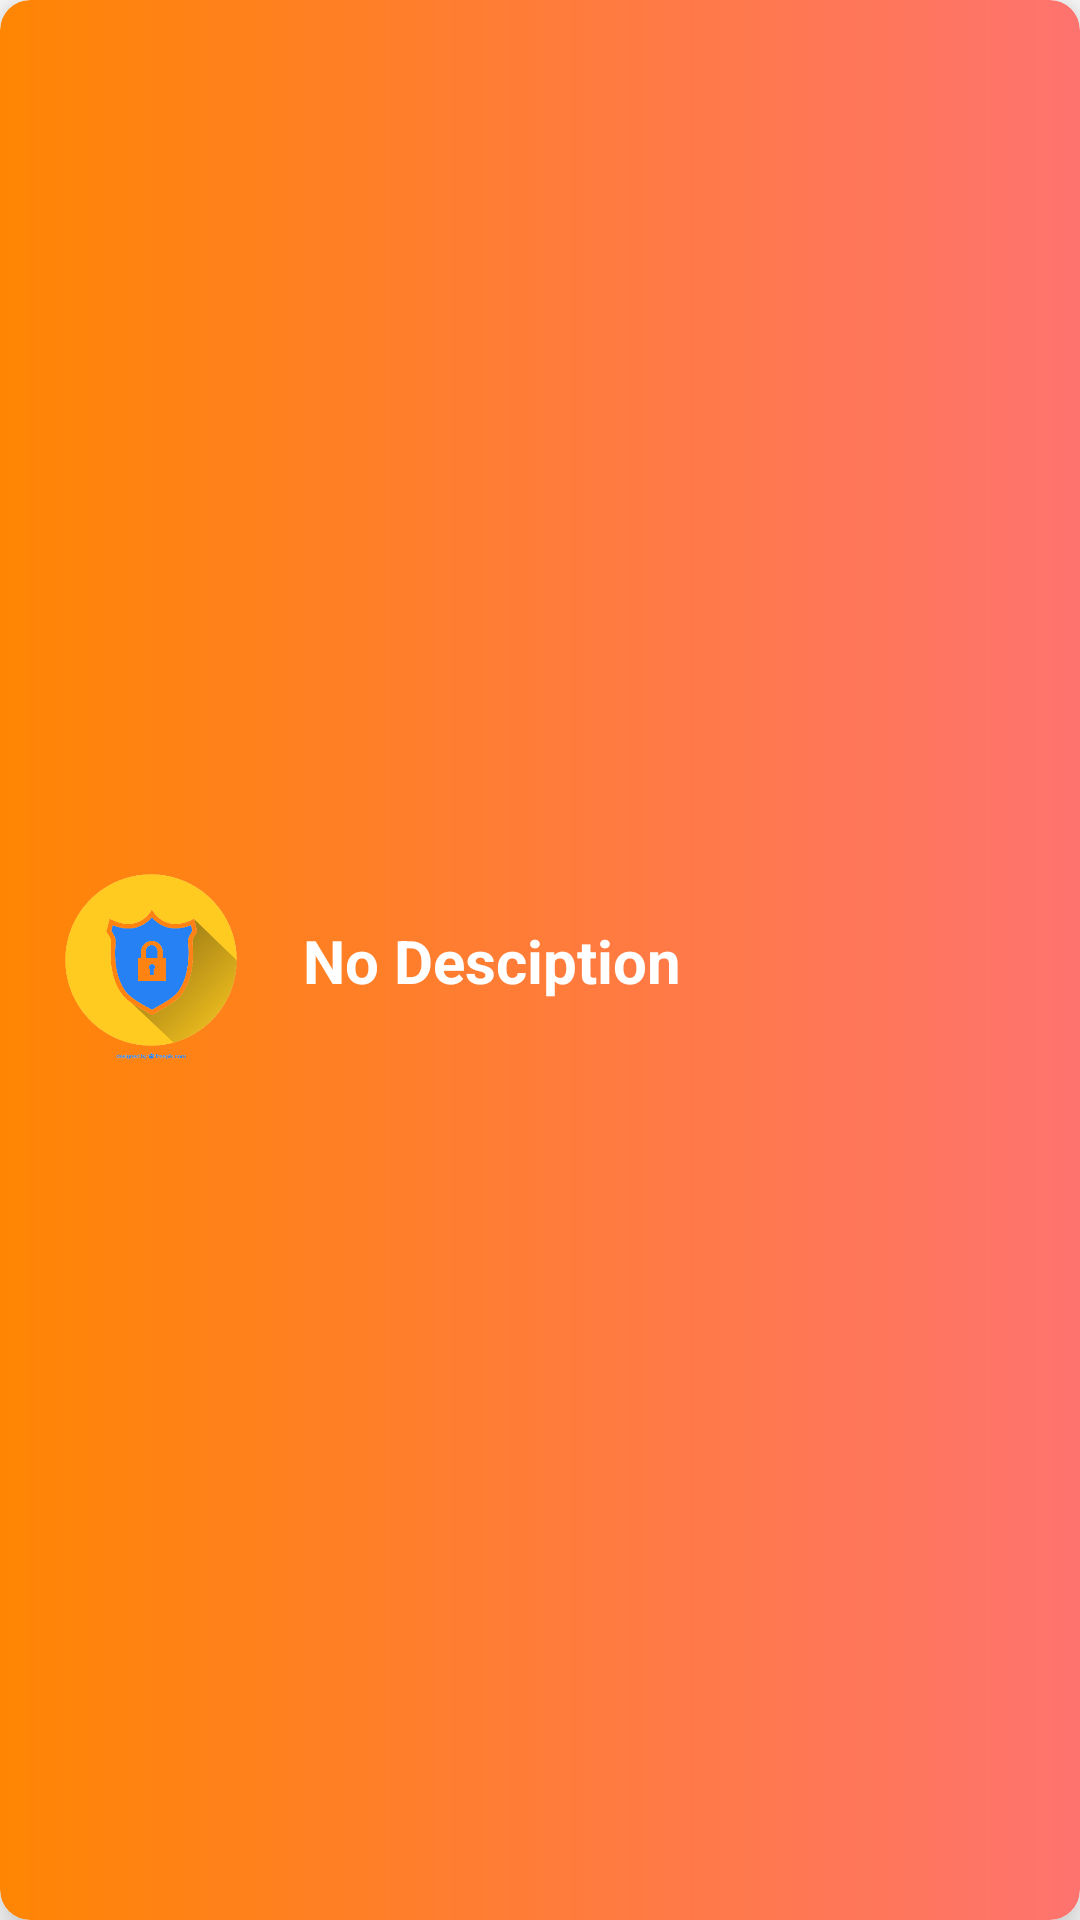

Icons on this 1080×1920 Android screen, each with its box as [x1=x1, y1=y1, x2=x2, y2=y2]:
password: [x1=65, y1=874, x2=237, y2=1060]
